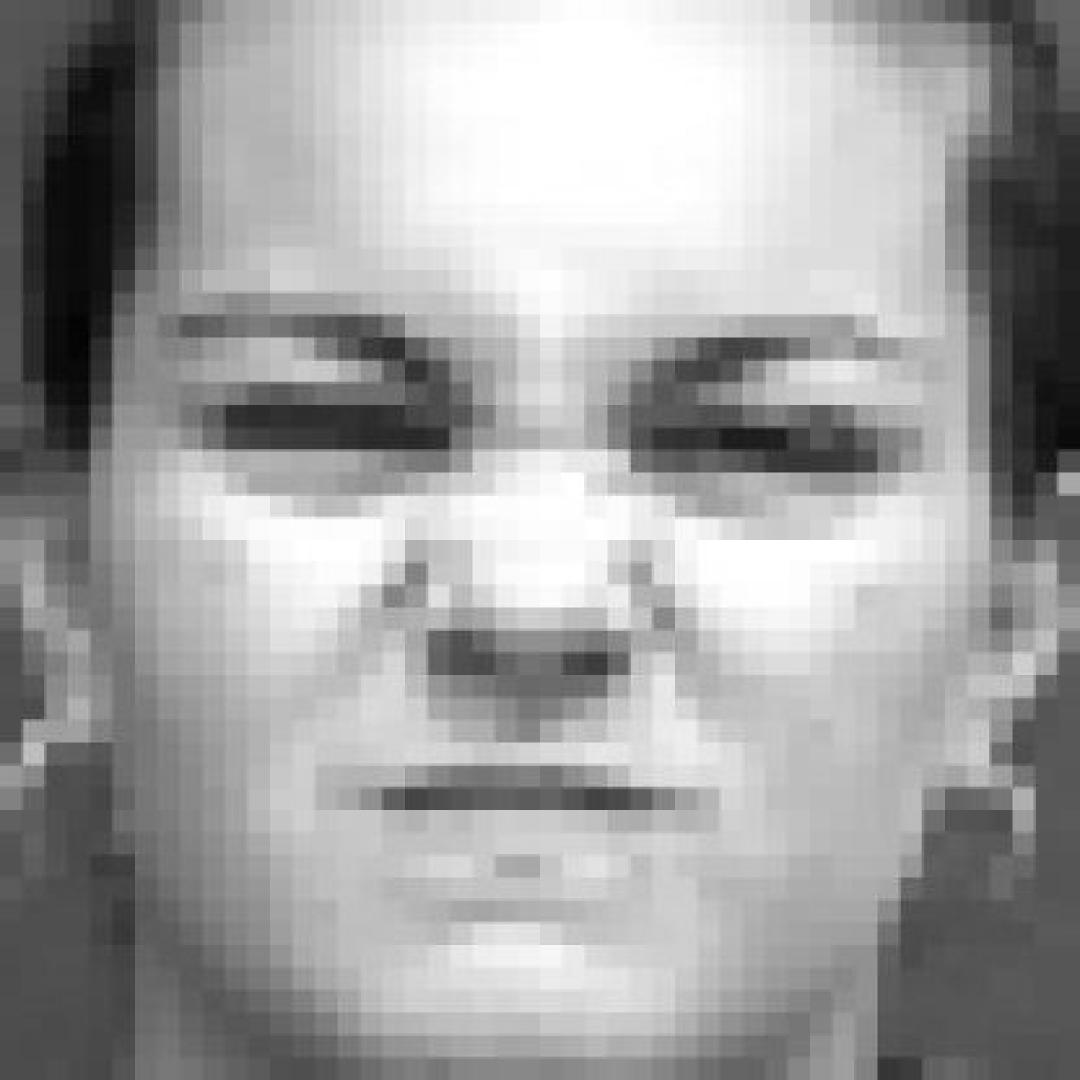disgust: (0, 80, 1080, 1080)
